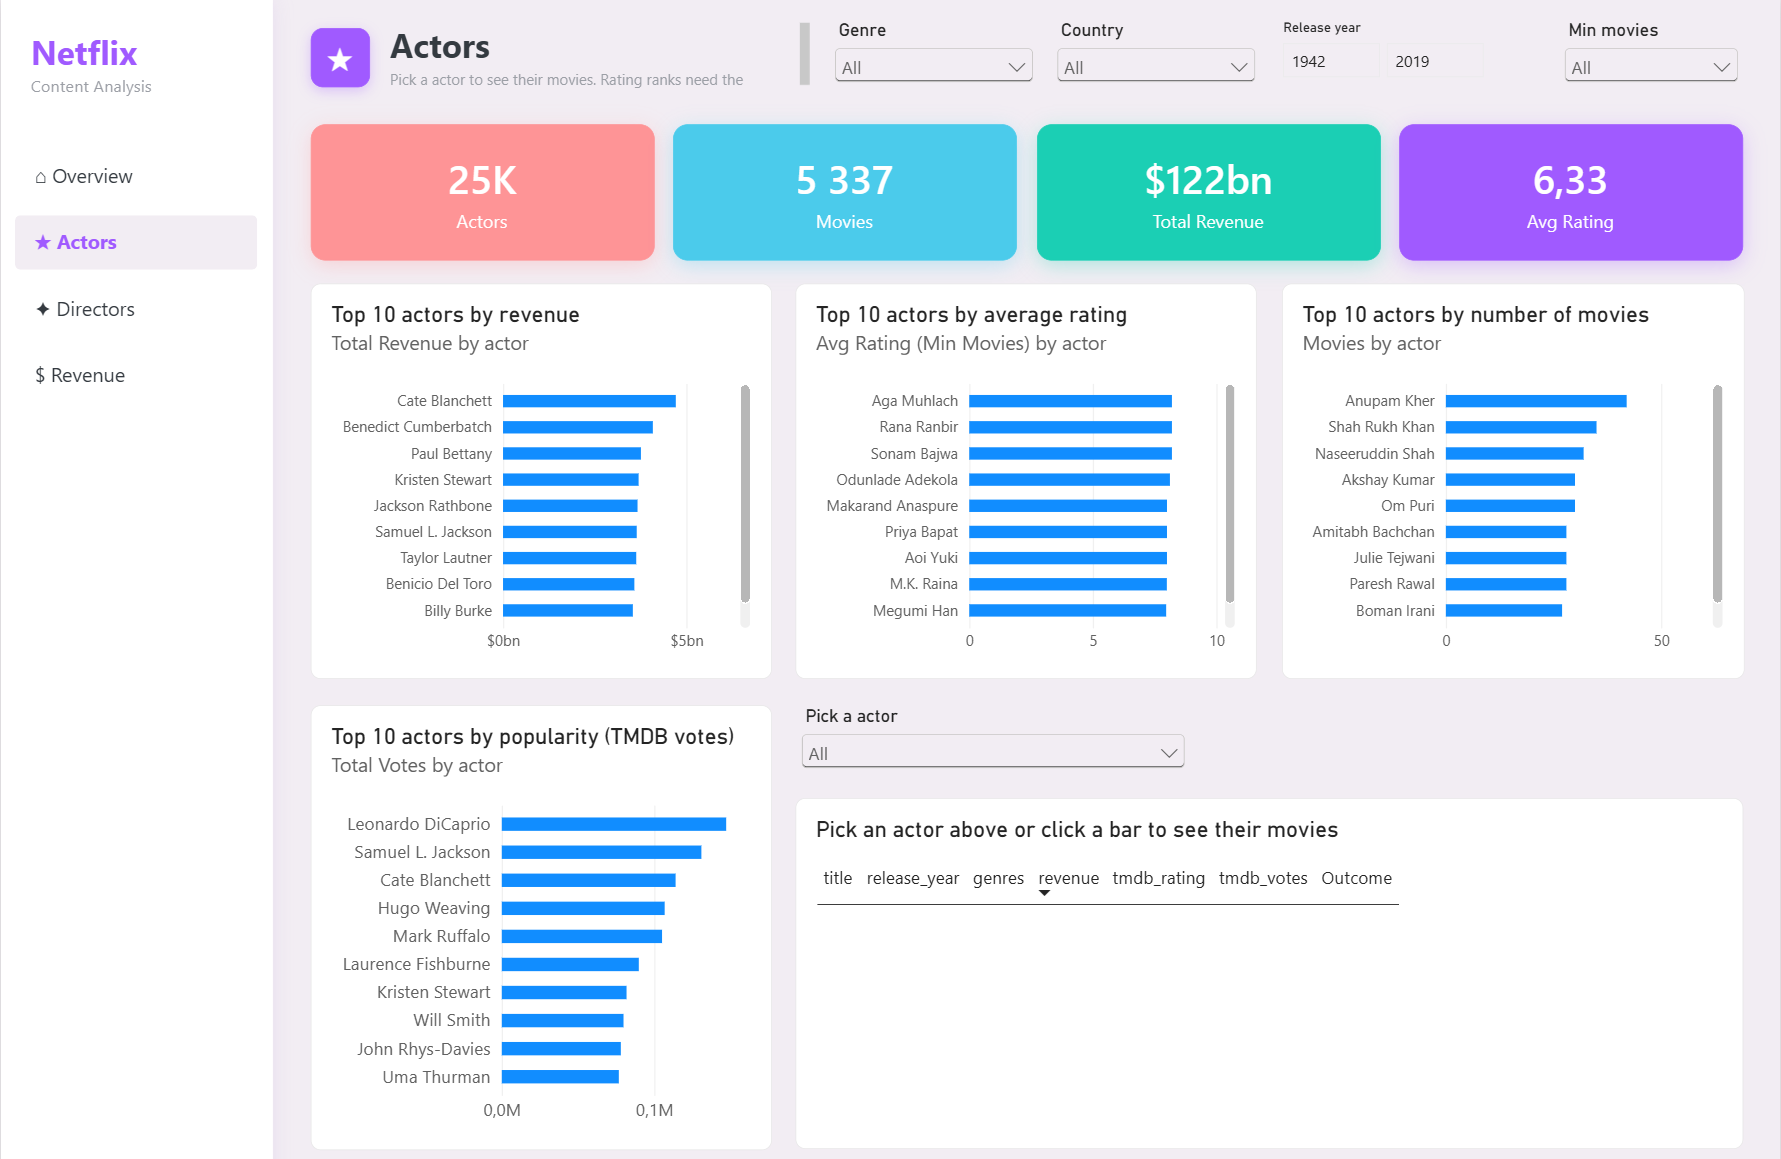

The dashboard page shown, as its layout file describes it:
{"tool":"powerbi","page":{"name":"Actors","canvas":[1440,1280],"ordinal":1},"visuals":[{"type":"textbox","box":[0,0,220,1280],"z":1000},{"type":"textbox","box":[24,24,180,64],"z":2000},{"type":"actionButton","box":[12,120,196,44],"z":3000},{"type":"actionButton","box":[12,174,196,44],"z":4000},{"type":"actionButton","box":[12,228,196,44],"z":5000},{"type":"actionButton","box":[12,282,196,44],"z":6000},{"type":"textbox","box":[24,1210,180,50],"z":7000},{"type":"slicer","fields":{"Values":["movie_genres.genre"]},"box":[670,16,170,64],"z":8000},{"type":"slicer","fields":{"Values":["movie_countries.country"]},"box":[850,16,170,64],"z":9000},{"type":"slicer","fields":{"Values":["movies.release_year"]},"box":[1030,16,220,64],"z":10000},{"type":"slicer","fields":{"Values":["Min Movies.Value"]},"box":[1260,16,150,64],"z":11000},{"type":"textbox","box":[250,22,48,48],"z":12000},{"type":"textbox","box":[314,18,340,60],"z":13000},{"type":"card","fields":{"Values":["_Measures.Actors"]},"box":[250,100,278,110],"z":14000},{"type":"card","fields":{"Values":["_Measures.Movies"]},"box":[544,100,278,110],"z":15000},{"type":"card","fields":{"Values":["_Measures.Total Revenue"]},"box":[838,100,278,110],"z":16000},{"type":"card","fields":{"Values":["_Measures.Avg Rating"]},"box":[1132,100,278,110],"z":17000},{"type":"clusteredBarChart","title":"Top 10 actors by revenue","fields":{"Category":["movie_cast.actor"],"Y":["_Measures.Total Revenue"]},"box":[250,230,373,320],"z":18000},{"type":"clusteredBarChart","title":"Top 10 actors by average rating","fields":{"Category":["movie_cast.actor"],"Y":["_Measures.Avg Rating (Min Movies)"]},"box":[643,230,373,320],"z":19000},{"type":"clusteredBarChart","title":"Top 10 actors by number of movies","fields":{"Category":["movie_cast.actor"],"Y":["_Measures.Movies"]},"box":[1036,230,374,320],"z":20000},{"type":"clusteredBarChart","title":"Top 10 actors by popularity (TMDB votes)","fields":{"Category":["movie_cast.actor"],"Y":["_Measures.Total Votes"]},"box":[250,570,373,360],"z":21000},{"type":"slicer","fields":{"Values":["movie_cast.actor"]},"box":[643,570,320,64],"z":22000},{"type":"tableEx","fields":{"Values":["movies.title","movies.release_year","movies.genres","movies.revenue","movies.tmdb_rating","movies.tmdb_votes","movies.Outcome"]},"box":[643,646,767,284],"z":23000},{"type":"tableEx","title":"Best actor per release year","fields":{"Values":["movies.release_year","_Measures.Top Actor by Revenue","_Measures.Top Actor Revenue","_Measures.Top Actor by Votes"]},"box":[250,950,1160,310],"z":24000}]}

Visuals, with their boxes on the page's 1440x1280 design canvas (x1, y1, x2, y2). These are canvas units, not pixel positions in the 1781x1159 screenshot, which may show the page scaled, cropped or inside an application window:
textbox: locate(0, 0, 220, 1280)
textbox: locate(24, 24, 204, 88)
actionButton: locate(12, 120, 208, 164)
actionButton: locate(12, 174, 208, 218)
actionButton: locate(12, 228, 208, 272)
actionButton: locate(12, 282, 208, 326)
textbox: locate(24, 1210, 204, 1260)
slicer - movie_genres.genre: locate(670, 16, 840, 80)
slicer - movie_countries.country: locate(850, 16, 1020, 80)
slicer - movies.release_year: locate(1030, 16, 1250, 80)
slicer - Min Movies.Value: locate(1260, 16, 1410, 80)
textbox: locate(250, 22, 298, 70)
textbox: locate(314, 18, 654, 78)
card - _Measures.Actors: locate(250, 100, 528, 210)
card - _Measures.Movies: locate(544, 100, 822, 210)
card - _Measures.Total Revenue: locate(838, 100, 1116, 210)
card - _Measures.Avg Rating: locate(1132, 100, 1410, 210)
"Top 10 actors by revenue" clusteredBarChart: locate(250, 230, 623, 550)
"Top 10 actors by average rating" clusteredBarChart: locate(643, 230, 1016, 550)
"Top 10 actors by number of movies" clusteredBarChart: locate(1036, 230, 1410, 550)
"Top 10 actors by popularity (TMDB votes)" clusteredBarChart: locate(250, 570, 623, 930)
slicer - movie_cast.actor: locate(643, 570, 963, 634)
tableEx - movies.title x movies.release_year: locate(643, 646, 1410, 930)
"Best actor per release year" tableEx: locate(250, 950, 1410, 1260)
